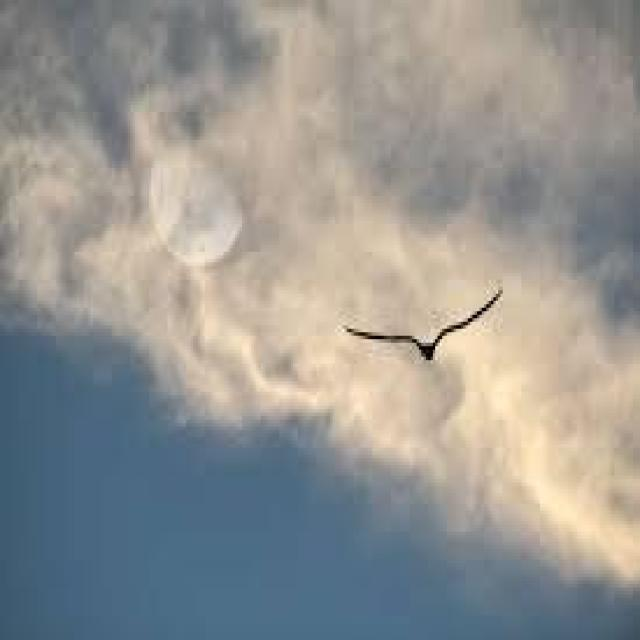bird: (339, 263, 516, 384)
